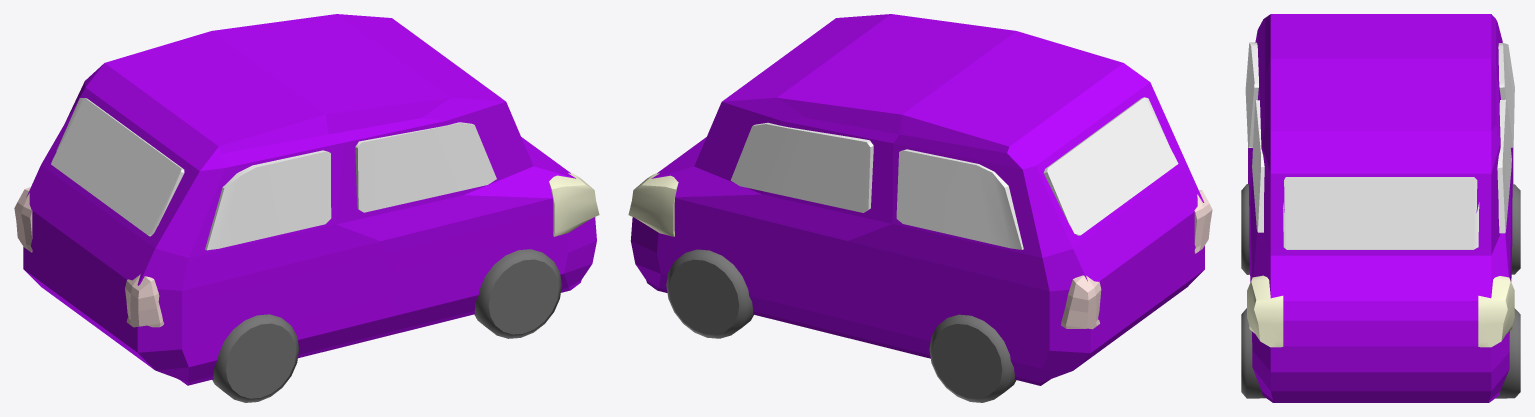
Rendered from CarroMorado.fbx.
3 views of the same model, side by side, from view 1: azimuth 30°, elevation 25°; view 2: azimuth 150°, elevation 25°; view 3: azimuth 270°, elevation 25° (orthographic). The views are drawn at different scales.
Parts seen in each view (by area): view 1: pCube1, pCube10, pCube8, pCube7, pCylinder1, pCylinder2, pCube11, pCube9; view 2: pCube1, pCube10, pCube12, pCube4, pCylinder3, pCylinder4, pCube11, pCube9; view 3: pCube1, pCube6, pCube9, pCube12, pCube8, pCylinder3, pCylinder1, pCube4, pCube7, pCylinder4, pCylinder2.
Part boxes in pixels (left/top/right/bottom): pCube1: left=23, top=14, right=596, bottom=385; pCube10: left=51, top=98, right=184, bottom=236; pCube8: left=355, top=122, right=496, bottom=212; pCube7: left=205, top=150, right=331, bottom=250; pCylinder1: left=474, top=249, right=561, bottom=338; pCylinder2: left=212, top=314, right=299, bottom=402; pCube11: left=14, top=187, right=163, bottom=327; pCube9: left=549, top=173, right=599, bottom=236; pCube1: left=630, top=14, right=1204, bottom=385; pCube10: left=1043, top=97, right=1178, bottom=235; pCube12: left=730, top=122, right=873, bottom=212; pCube4: left=896, top=149, right=1023, bottom=249; pCylinder3: left=666, top=249, right=753, bottom=338; pCylinder4: left=929, top=314, right=1016, bottom=402; pCube11: left=1061, top=190, right=1212, bottom=329; pCube9: left=628, top=173, right=678, bottom=236; pCube1: left=1248, top=14, right=1513, bottom=402; pCube6: left=1283, top=177, right=1479, bottom=249; pCube9: left=1247, top=275, right=1514, bottom=347; pCube12: left=1497, top=99, right=1511, bottom=233; pCube8: left=1252, top=100, right=1264, bottom=232; pCylinder3: left=1495, top=308, right=1520, bottom=398; pCylinder1: left=1241, top=308, right=1265, bottom=398; pCube4: left=1498, top=42, right=1514, bottom=147; pCube7: left=1245, top=42, right=1258, bottom=147; pCylinder4: left=1511, top=184, right=1520, bottom=274; pCylinder2: left=1241, top=184, right=1249, bottom=274.
Bounding box in the file's own units: 20.49 × 10.94 × 11.09.
